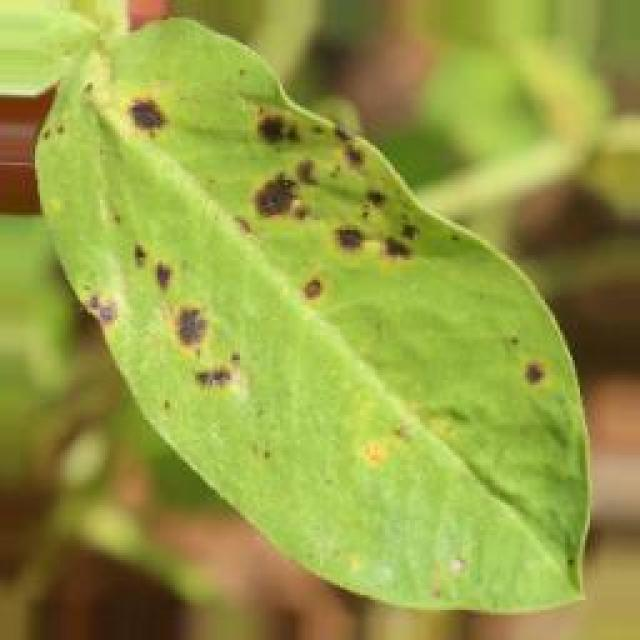Yellowish: (53, 32, 590, 496)
